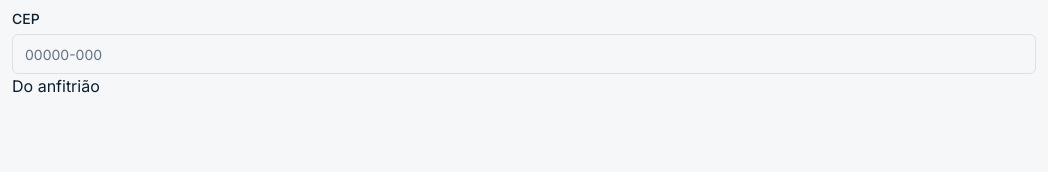
it: CepField (E2.08, UX-18) › máscara de 8 dígitos e teclado numérico; com o 8º dígito, busca uma vez, mostra 'Buscando endereço…' e preenche
Type "9001000" into the field labelled "CEP" at (524, 54), box [12,34,1036,74]
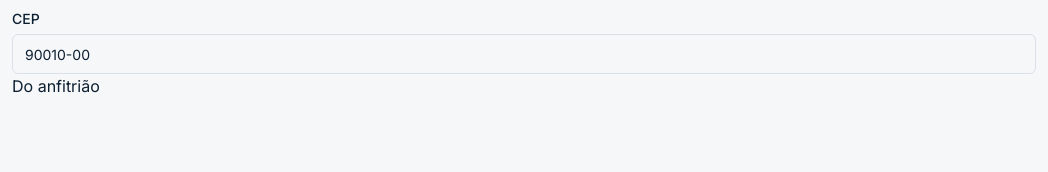
Now the field labelled "CEP" holds "90010-00"
Replace the text in the field labelled "CEP" with "90010000" at (524, 54), box [12,34,1036,74]
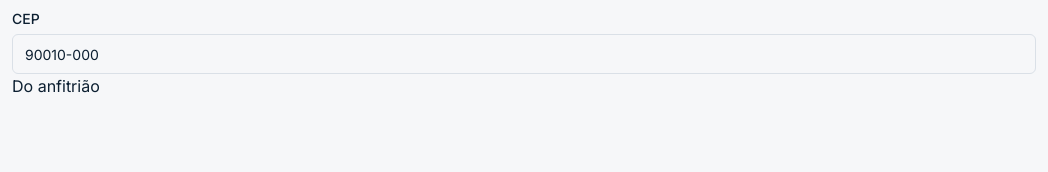
Now the field labelled "CEP" holds "90010-000", box [12,34,1036,74]
